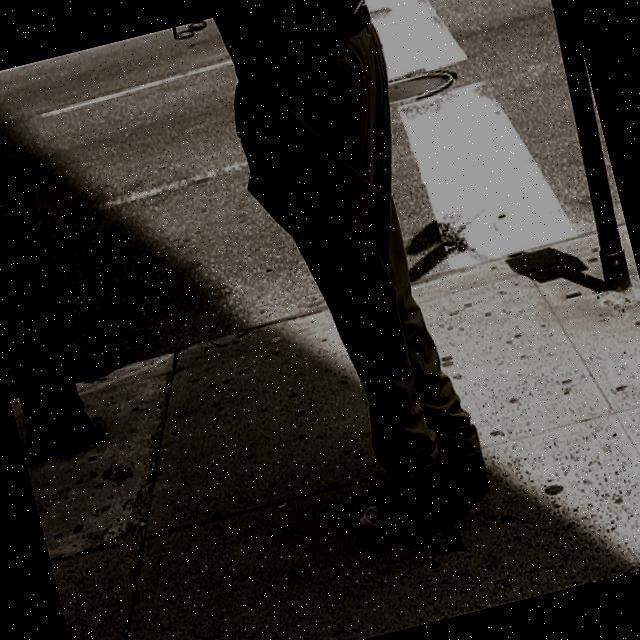fire_hydrant: (0, 101, 104, 463)
